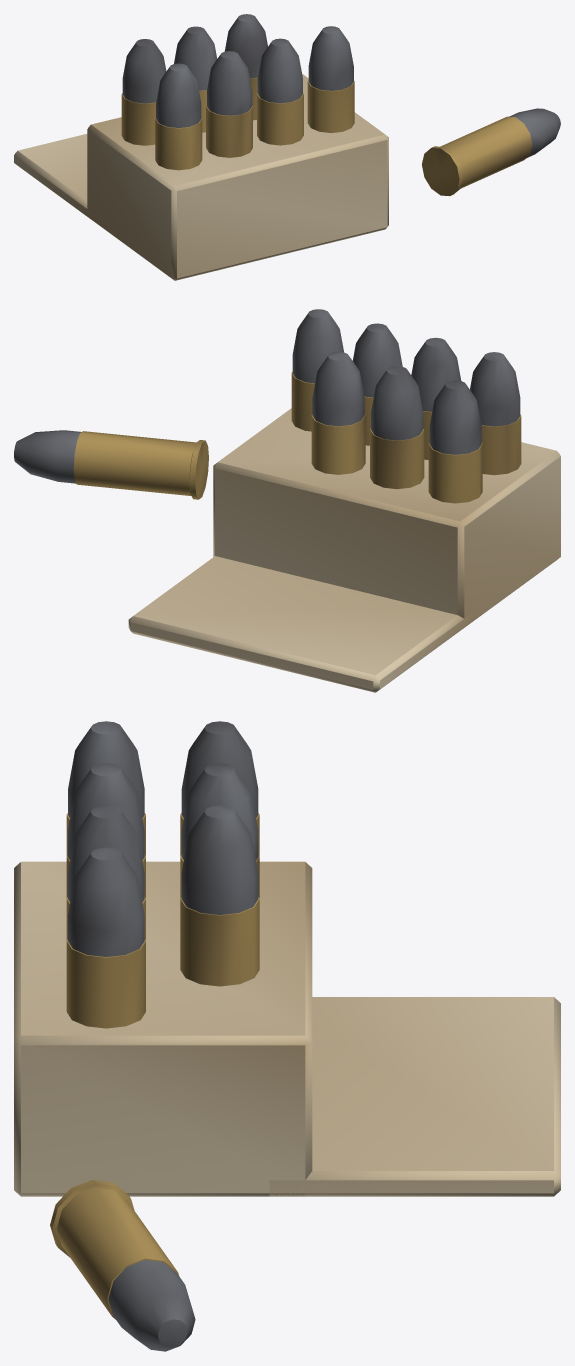
Rendered from revolver-cartridge.glb.
The picture shows the model from 3 angles, top to bottom: view 1: azimuth 30°, elevation 25°; view 2: azimuth 150°, elevation 25°; view 3: azimuth 270°, elevation 25°; orthographic projection. The views are drawn at different scales.
Parts seen in each view (by area): view 1: revolver-cartridge; view 2: revolver-cartridge; view 3: revolver-cartridge.
Boxes of the visible parts, x1,y1,x2,y2 form: revolver-cartridge: (14, 14, 560, 280); revolver-cartridge: (14, 309, 560, 692); revolver-cartridge: (14, 721, 560, 1351).
Size of the model in its own units: 0.1185 by 0.05 by 0.077.
